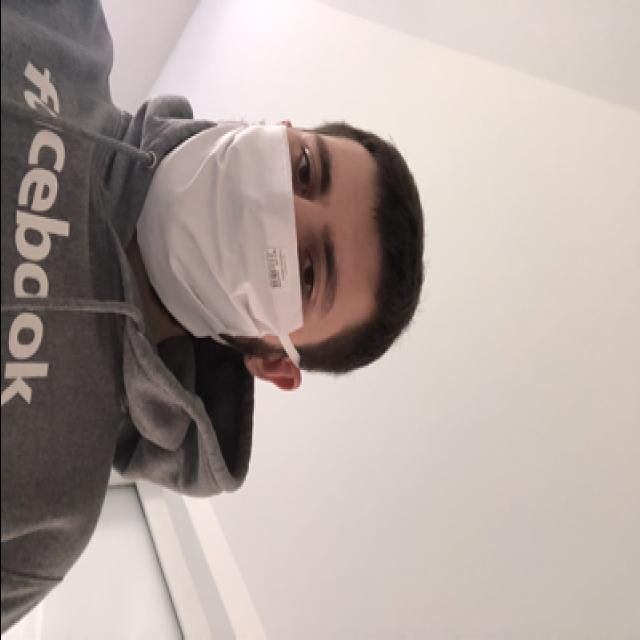mask: (136, 121, 350, 349)
